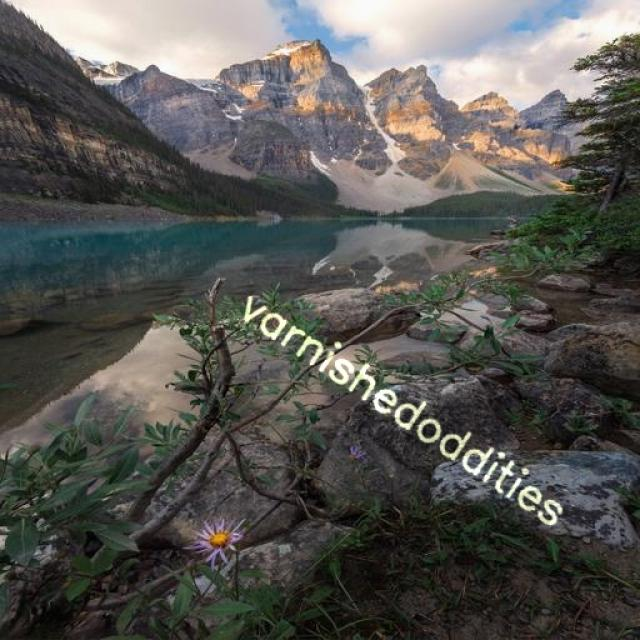watermark: (226, 280, 586, 537)
